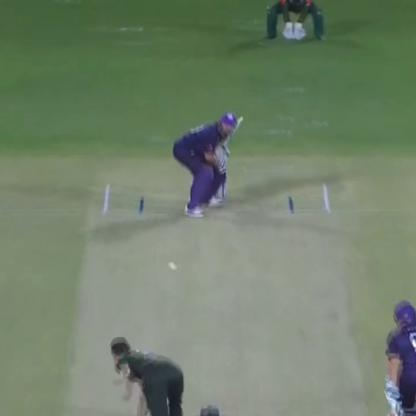ball: (165, 258, 180, 274)
bat: (214, 104, 245, 158)
pitch: (54, 168, 367, 415)
